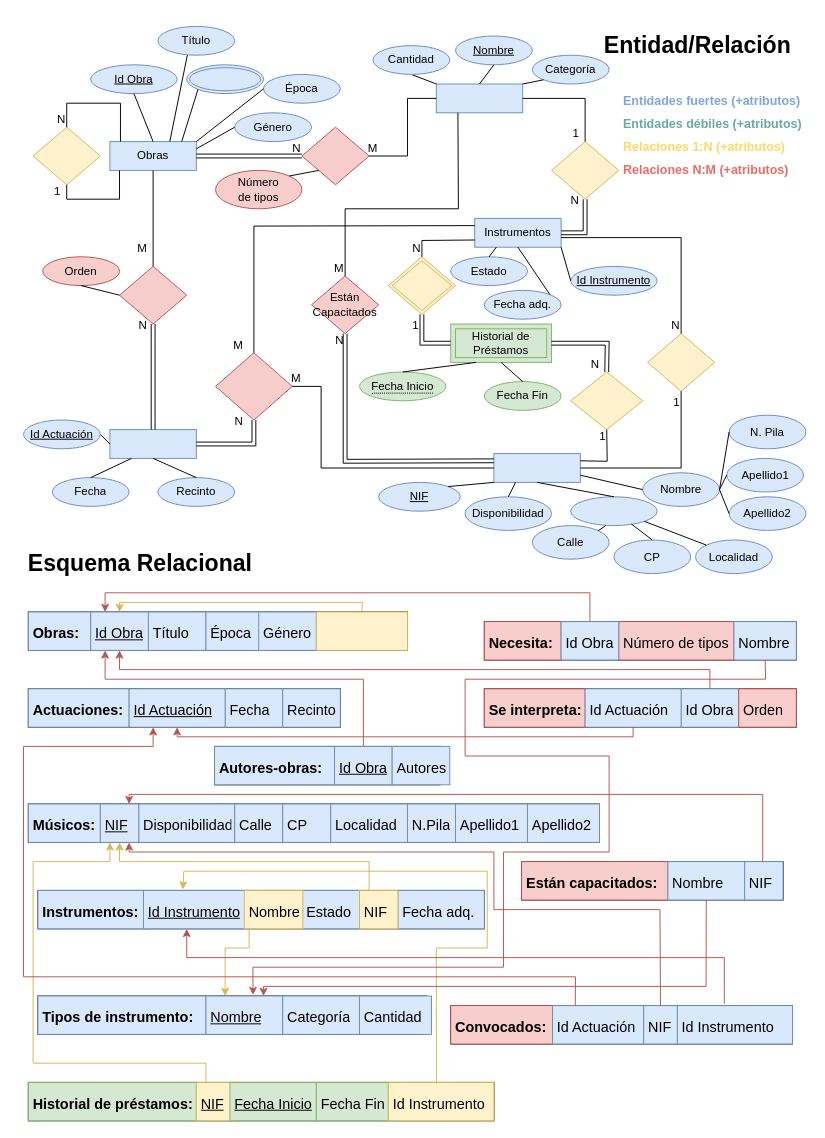
This 825x1138 diagram has some shape labels left out. Here are the shapes that lost their labels. From the top down, the centre of each, then its label:
At (x=225, y=79): "Autor".
At (x=479, y=98): "Tipos de Instrumentos".
At (x=66, y=155): "Basada en".
At (x=335, y=155): "Necesita".
At (x=585, y=170): "Pertenece".
At (x=153, y=294): "Se interpreta".
At (x=421, y=285): "Asignado".
At (x=681, y=362): "Posee".
At (x=253, y=386): "Convocados".
At (x=606, y=400): "Tiene prestado".
At (x=152, y=443): "Actuaciones".
At (x=536, y=467): "Músicos".
At (x=613, y=511): "Dirección".
At (x=361, y=630): "Obra antigua".
